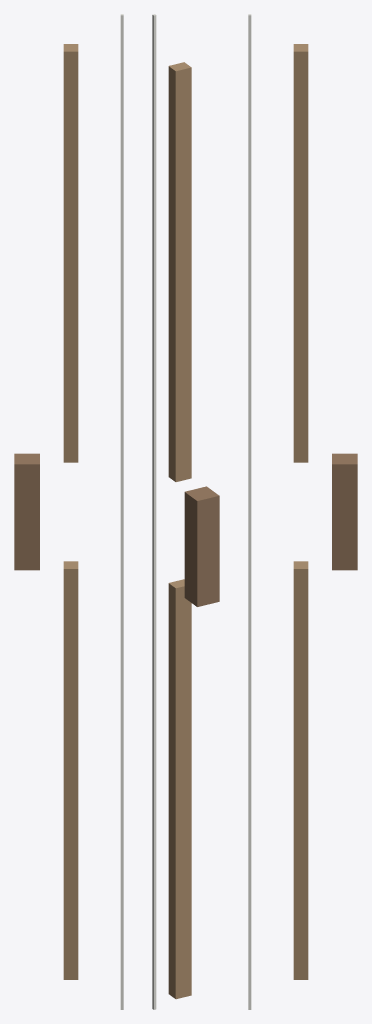
File: bow.glb
The picture shows the model from 3 angles, left to right: view 1: azimuth 90°, elevation 25°; view 2: azimuth 210°, elevation 25°; view 3: azimuth 270°, elevation 25°; orthographic projection.
Parts seen in each view (by area): view 1: bow1, bow2, bow3, bow0; view 2: bow1, bow2, bow3, bow0; view 3: bow1, bow2, bow3, bow0.
Boxes of the visible parts, left/top/right/bottom form: bow1: left=63, top=44, right=78, bottom=462; bow2: left=63, top=561, right=78, bottom=979; bow3: left=120, top=14, right=123, bottom=1009; bow0: left=14, top=453, right=39, bottom=570; bow1: left=168, top=62, right=191, bottom=481; bow2: left=168, top=579, right=191, bottom=999; bow3: left=152, top=14, right=156, bottom=1009; bow0: left=184, top=486, right=219, bottom=606; bow1: left=293, top=44, right=308, bottom=462; bow2: left=293, top=561, right=308, bottom=979; bow3: left=248, top=14, right=251, bottom=1009; bow0: left=332, top=453, right=357, bottom=570.
Size of the model in its own units: 0.035 by 1.5 by 0.1495.
